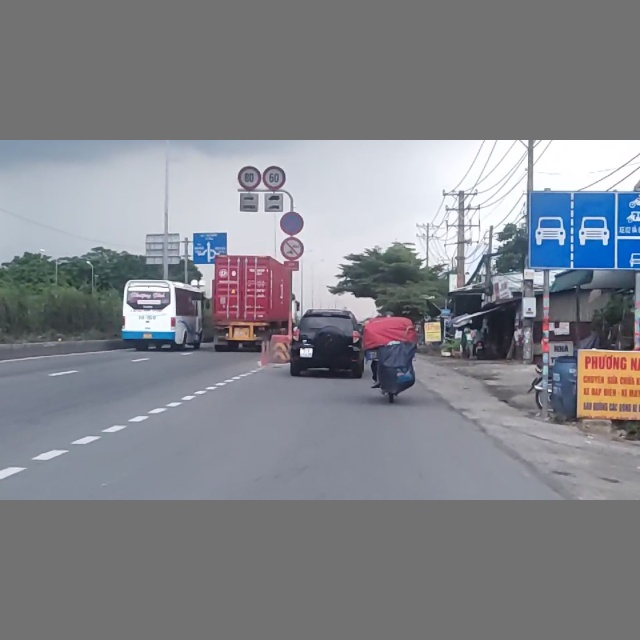P.111: (279, 236, 305, 260)
P.127*60: (263, 165, 287, 190)
P.127*80: (237, 165, 261, 190)
P.130: (279, 211, 305, 235)
R.415a: (530, 191, 640, 269)
